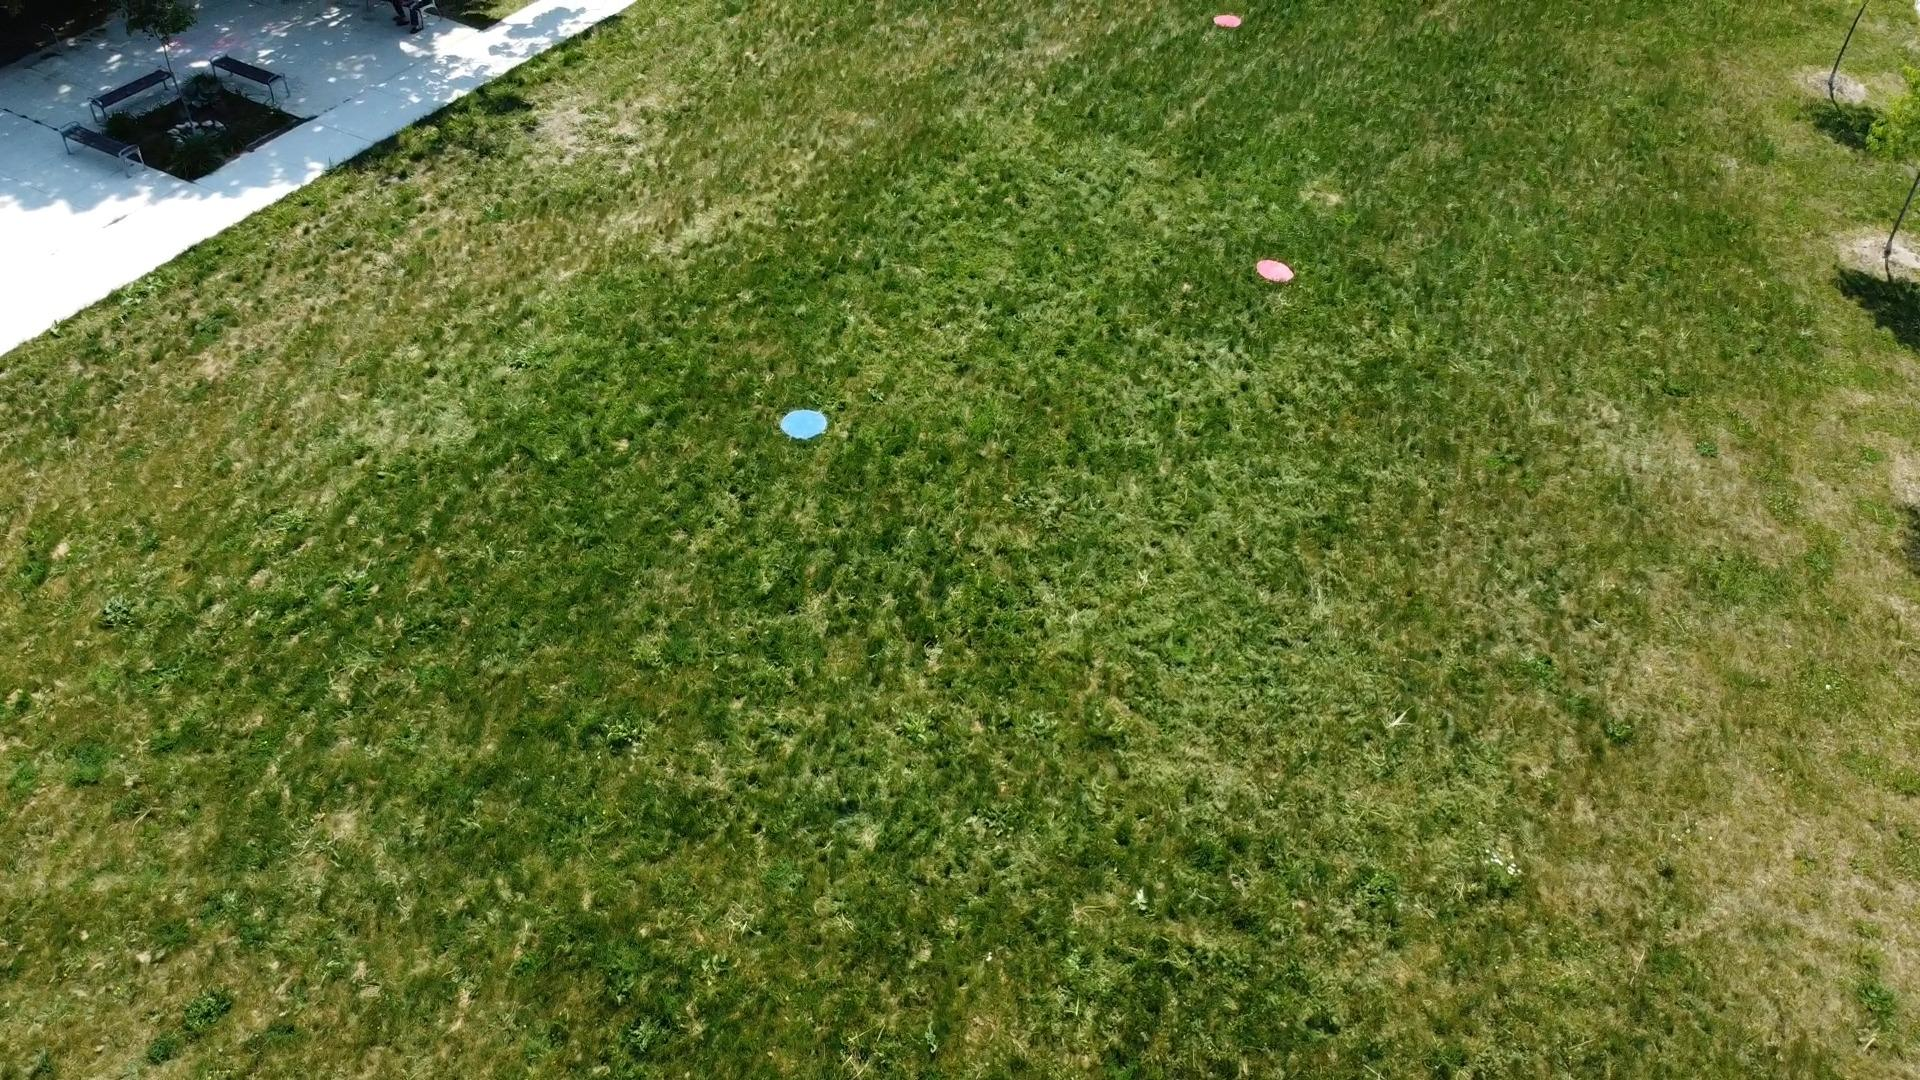Blue: (777, 404, 832, 442)
Red: (1255, 258, 1299, 285), (1212, 12, 1245, 30)
